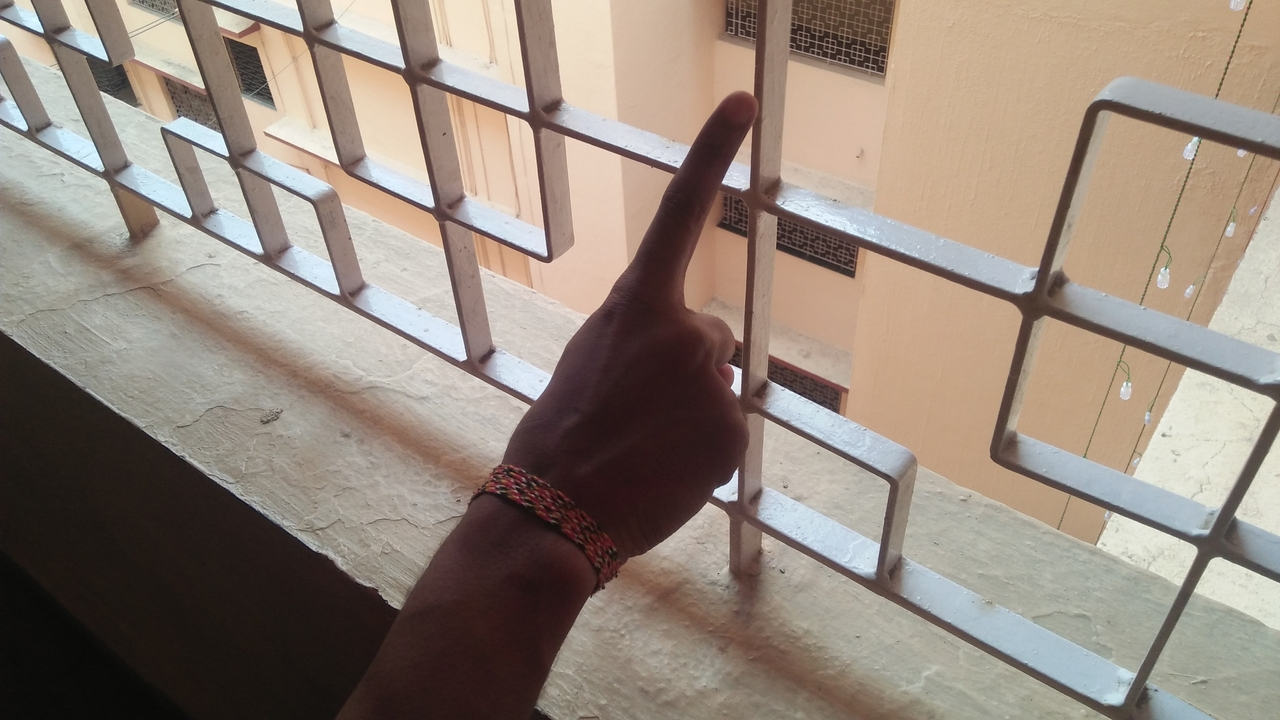fingertip: (706, 84, 760, 128)
